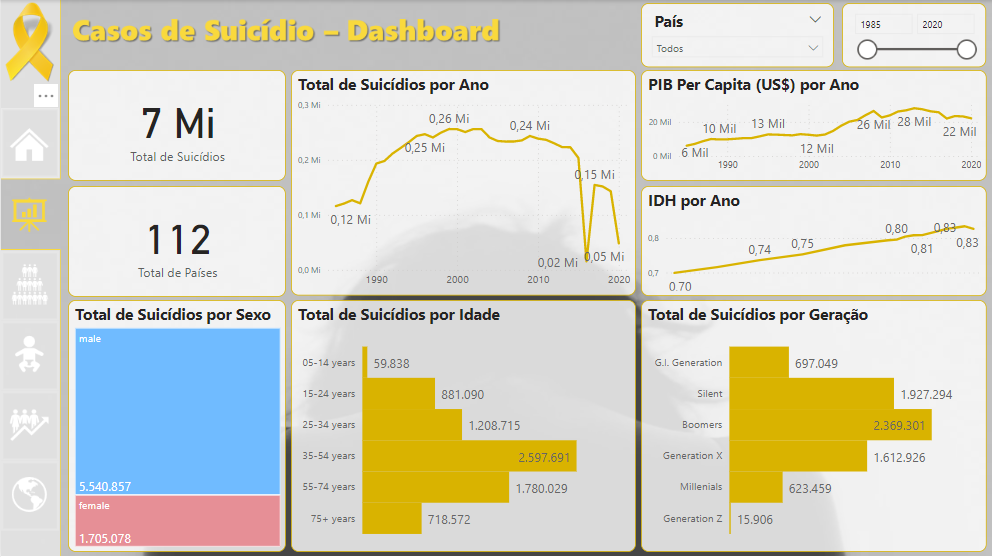

This screenshot's page, from the dashboard's own definition file:
{"tool":"powerbi","page":{"name":"DashBoard","canvas":[1280,720],"ordinal":1},"visuals":[{"type":"clusteredBarChart","fields":{"Category":["master.age"],"Y":["Sum(master.suicides_no)"]},"box":[374.2,386.9,445,323.1],"z":0},{"type":"clusteredBarChart","title":"Total de Suicídios por Geração","fields":{"Category":["master.generation"],"Y":["Sum(master.suicides_no)"]},"box":[826.3,386.9,445,324.6],"z":1000},{"type":"treemap","fields":{"Group":["master.sex"],"Values":["Sum(master.suicides_no)"]},"box":[86.5,388.3,280.6,323.1],"z":2000},{"type":"card","fields":{"Values":["Sum(master.suicides_no)"]},"box":[86.5,90.7,280.6,292],"z":3000},{"type":"lineChart","fields":{"Y":["Sum(master.suicides_no)"],"Category":["master.year"]},"box":[374.2,90.7,445,290.6],"z":4000},{"type":"slicer","fields":{"Values":["master.country - tratada"]},"box":[825.8,3.9,249,82.6],"z":5000},{"type":"lineChart","title":"IDH por Ano","fields":{"Y":["Avg(master.HDI for year)"],"Category":["master.year"]},"box":[826.3,238.1,445,144.6],"z":6000},{"type":"lineChart","title":"PIB Per Capita (US$) por Ano","fields":{"Y":["Avg(master.gdp_per_capita ($))"],"Category":["master.year"]},"box":[826.3,90.7,445,144.6],"z":7000},{"type":"slicer","fields":{"Values":["master.year"]},"box":[1085.2,3.9,185.8,82.6],"z":8000},{"type":"actionButton","box":[0,139.4,74.8,90.3],"z":9000},{"type":"actionButton","box":[0,323.9,74.8,90.3],"z":10000},{"type":"actionButton","box":[0,413.9,75.1,90],"z":11000},{"type":"actionButton","box":[0,504.6,75.1,90],"z":12000},{"type":"actionButton","box":[0,595.3,75.1,90],"z":13000}]}

Visuals, with their boxes on the page's 1280x720 design canvas (x1, y1, x2, y2). These are canvas units, not pixel positions in the 992x557 screenshot, which may show the page scaled, cropped or inside an application window:
clusteredBarChart - master.age x Sum(master.suicides_no): <box>374,387,819,710</box>
"Total de Suicídios por Geração" clusteredBarChart: <box>826,387,1271,712</box>
treemap - master.sex x Sum(master.suicides_no): <box>86,388,367,711</box>
card - Sum(master.suicides_no): <box>86,91,367,383</box>
lineChart - Sum(master.suicides_no) x master.year: <box>374,91,819,381</box>
slicer - master.country - tratada: <box>826,4,1075,86</box>
"IDH por Ano" lineChart: <box>826,238,1271,383</box>
"PIB Per Capita (US$) por Ano" lineChart: <box>826,91,1271,235</box>
slicer - master.year: <box>1085,4,1271,86</box>
actionButton: <box>0,139,75,230</box>
actionButton: <box>0,324,75,414</box>
actionButton: <box>0,414,75,504</box>
actionButton: <box>0,505,75,595</box>
actionButton: <box>0,595,75,685</box>
